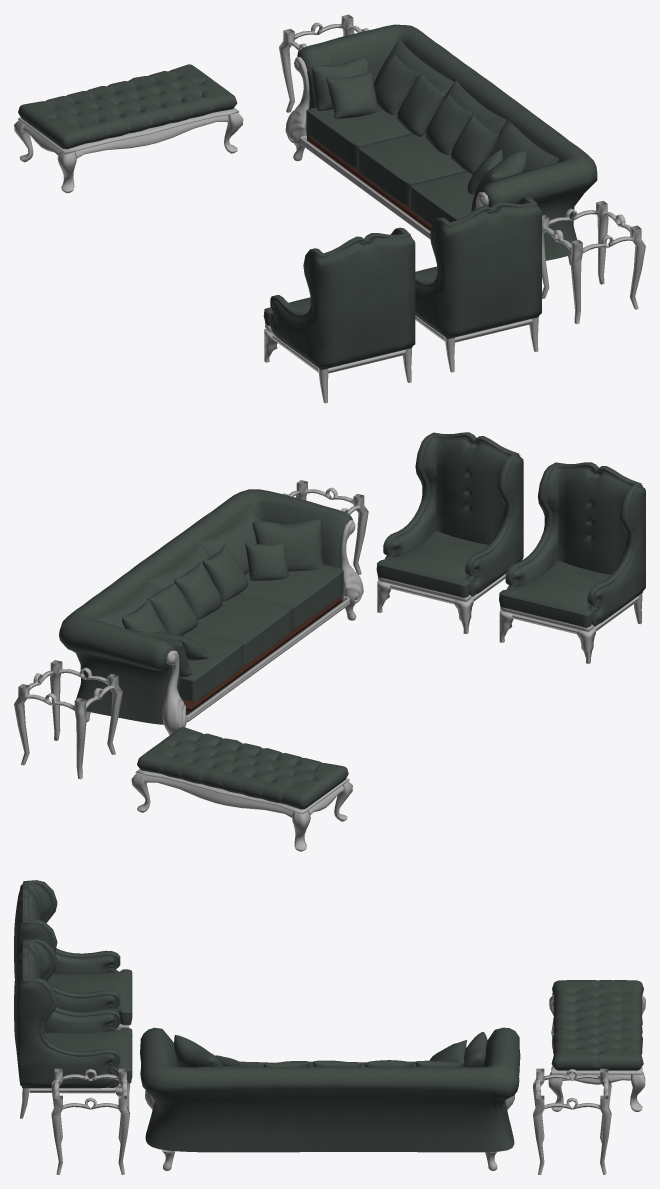
File: shafa.fbx
The picture shows the model from 3 angles, top to bottom: view 1: azimuth 30°, elevation 25°; view 2: azimuth 150°, elevation 25°; view 3: azimuth 270°, elevation 25°; orthographic projection. The views are drawn at different scales.
Visible parts, largest first — view 1: shafa; view 2: shafa; view 3: shafa.
Boxes of the visible parts, box(x1,y1,x2,y2) form: shafa: box(14, 14, 645, 403); shafa: box(14, 432, 645, 851); shafa: box(14, 880, 645, 1174).
Size of the model in its own units: 256 by 109 by 418.
